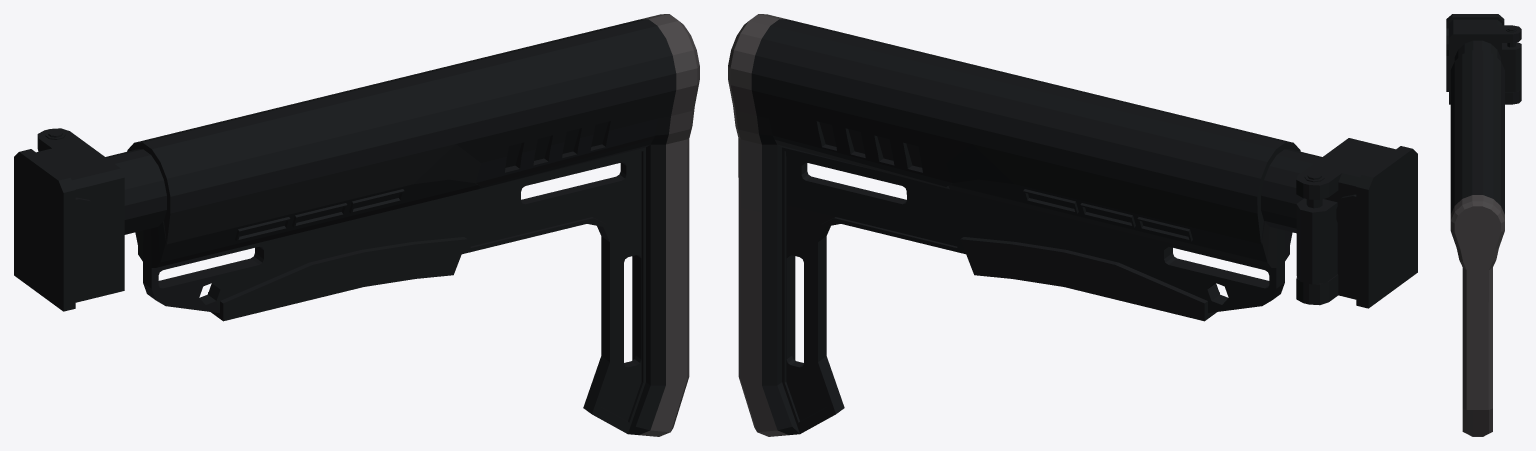
The model's file is Telescopic_Stock.gltf.
The picture shows the model from 3 angles, left to right: view 1: azimuth 30°, elevation 25°; view 2: azimuth 150°, elevation 25°; view 3: azimuth 270°, elevation 25°; orthographic projection. The views are drawn at different scales.
Parts seen in each view (by area): view 1: Telescopic_Stock, Folding_Stock; view 2: Telescopic_Stock, Folding_Stock; view 3: Telescopic_Stock, Folding_Stock.
Boxes of the visible parts, x1,y1,x2,y2 form: Telescopic_Stock: (45,14,699,436); Folding_Stock: (14,128,124,311); Telescopic_Stock: (728,14,1337,436); Folding_Stock: (1296,138,1417,308); Telescopic_Stock: (1450,26,1521,436); Folding_Stock: (1446,14,1521,104).
Bounding box in the file's own units: 0.1924 × 0.12 × 0.0332.
